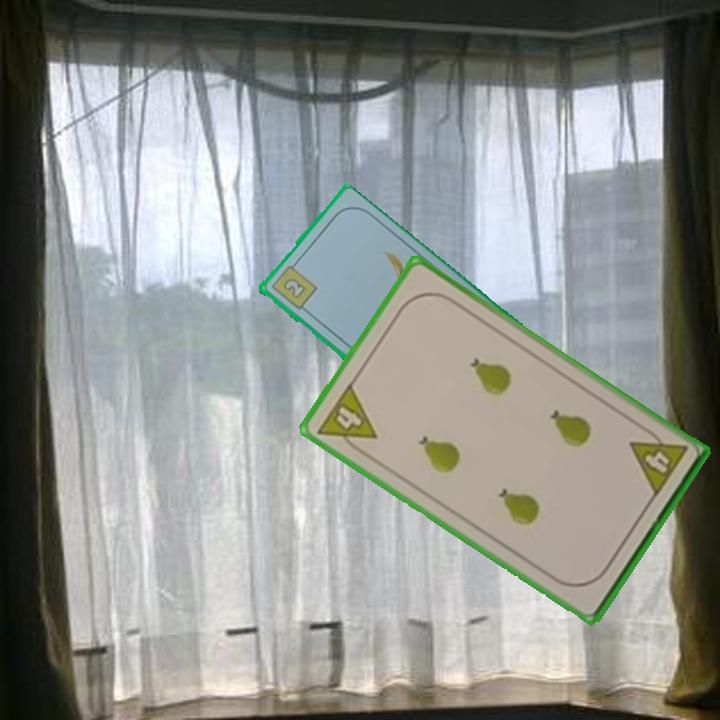2b: (267, 258, 319, 313)
4p: (313, 379, 380, 459), (626, 422, 691, 500)
